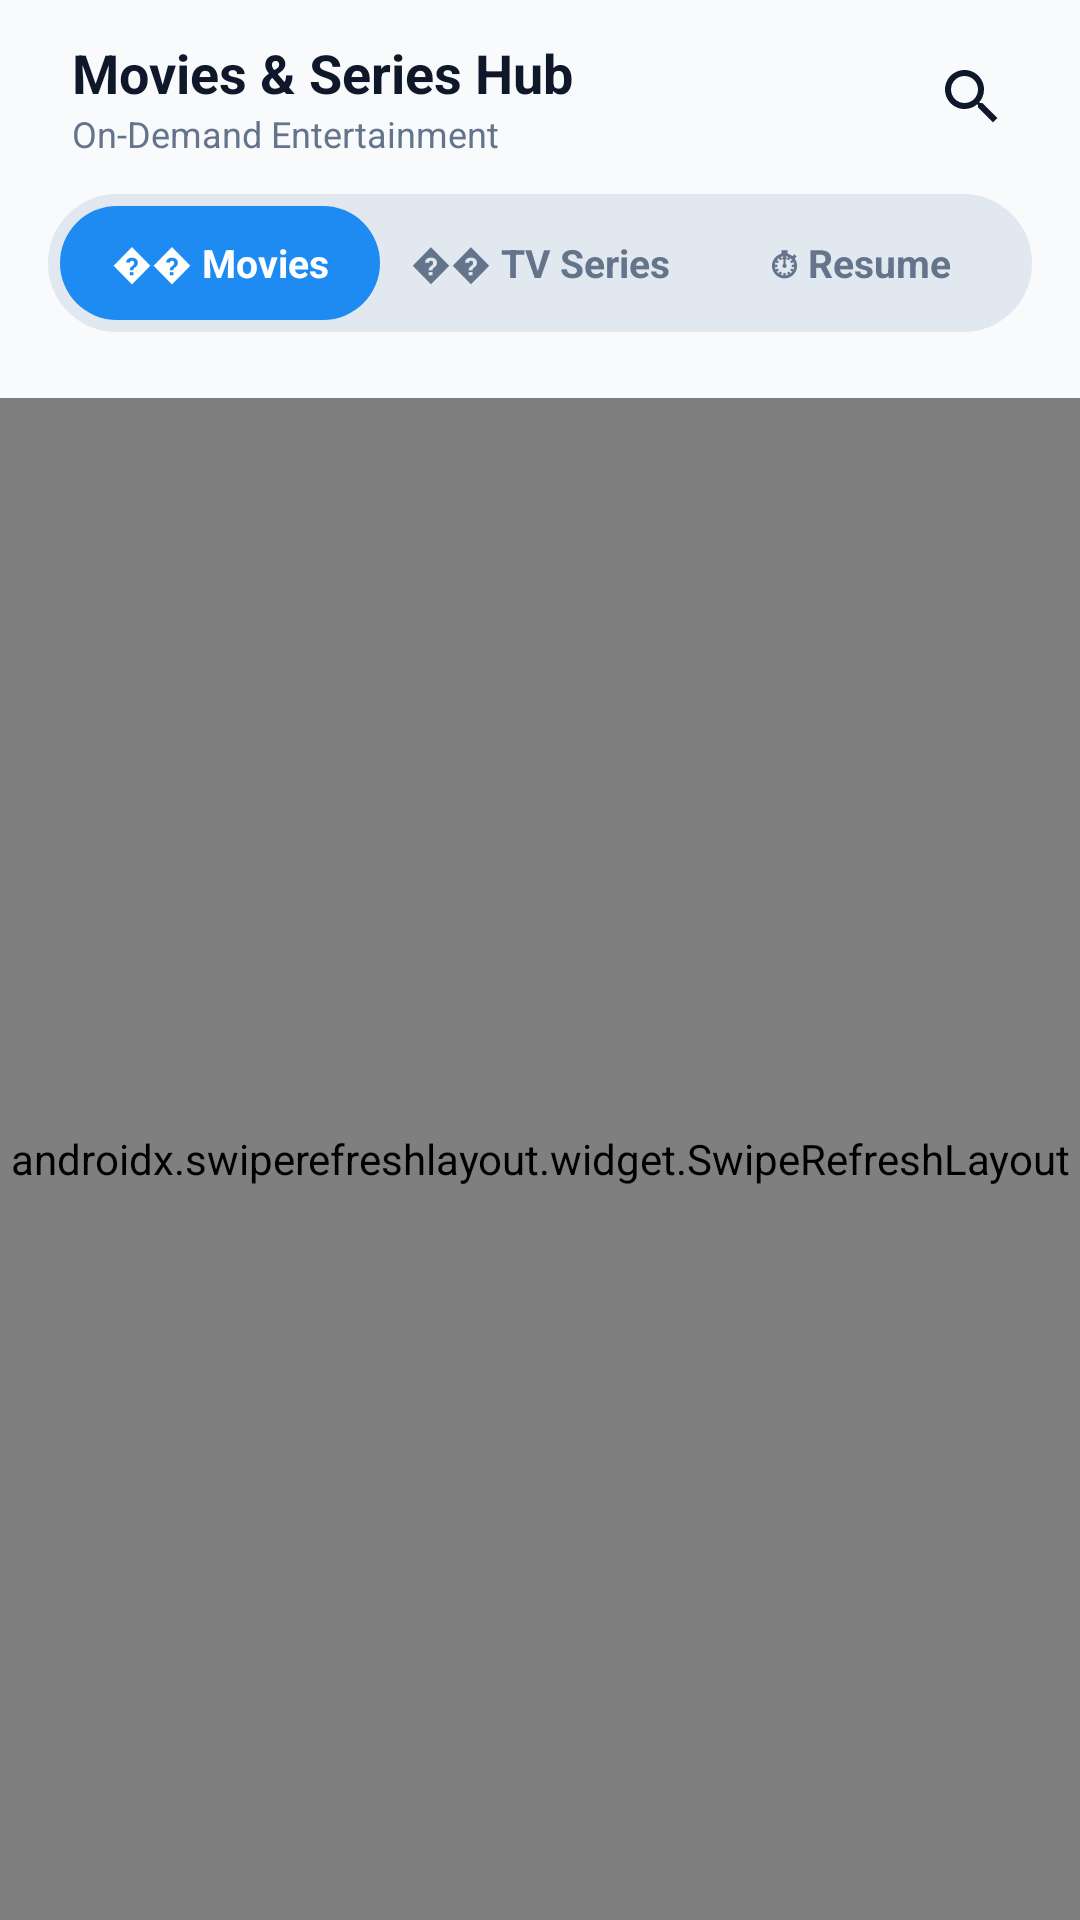

Point at icon controls on the screen. Image size 1080 × 1920, points as (x,y).
search: (971,96)
